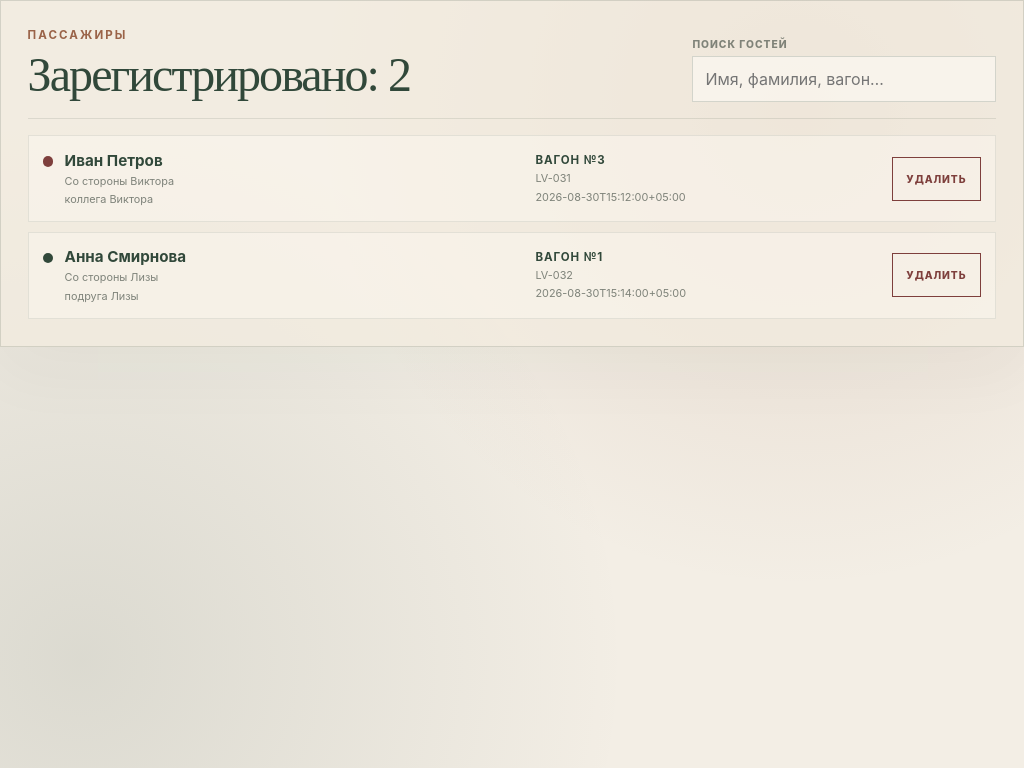
Test case: AdminGuestsPage › filters guests by search without losing the total registration count
In the search field labelled "Поиск гостей": (844, 79) left=692, top=56, right=996, bottom=102, type "Анна"
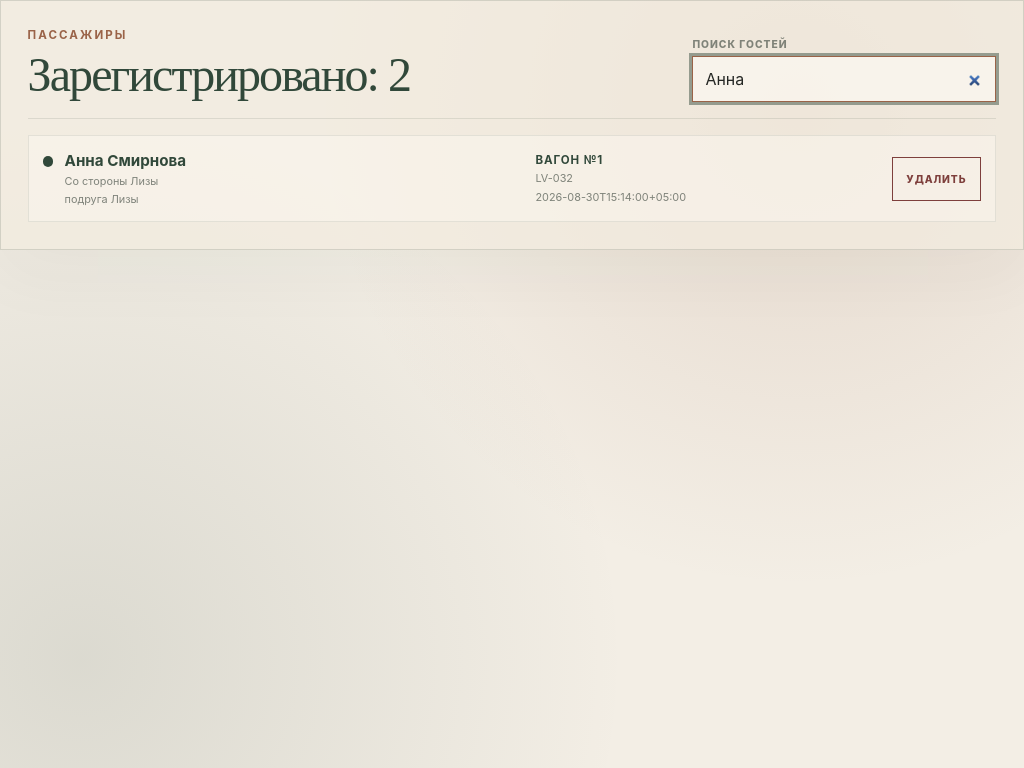
expect the heading "Анна Смирнова" is shown: met, box left=65, top=151, right=186, bottom=170
expect the heading "Иван Петров" is gone: met
